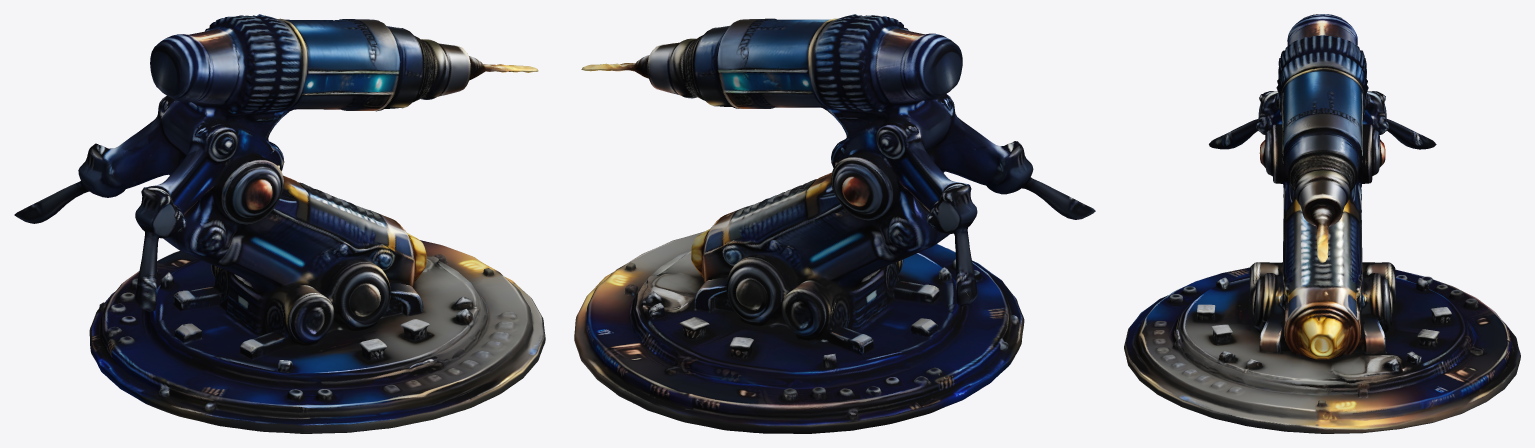
Rendered from dramelnewmodel.fbx.
3 views of the same model, side by side, from view 1: azimuth 30°, elevation 25°; view 2: azimuth 150°, elevation 25°; view 3: azimuth 270°, elevation 25° (orthographic). The views are drawn at different scales.
Parts seen in each view (by area): view 1: tripo_node_a1e1c1c8; view 2: tripo_node_a1e1c1c8; view 3: tripo_node_a1e1c1c8.
Part boxes in pixels (bbox=[...]): tripo_node_a1e1c1c8: bbox=[14, 14, 545, 433]; tripo_node_a1e1c1c8: bbox=[574, 14, 1095, 433]; tripo_node_a1e1c1c8: bbox=[1124, 14, 1520, 433].
Bounding box in the file's own units: 1 × 0.7161 × 0.8813.
1 material, 1 textured.
